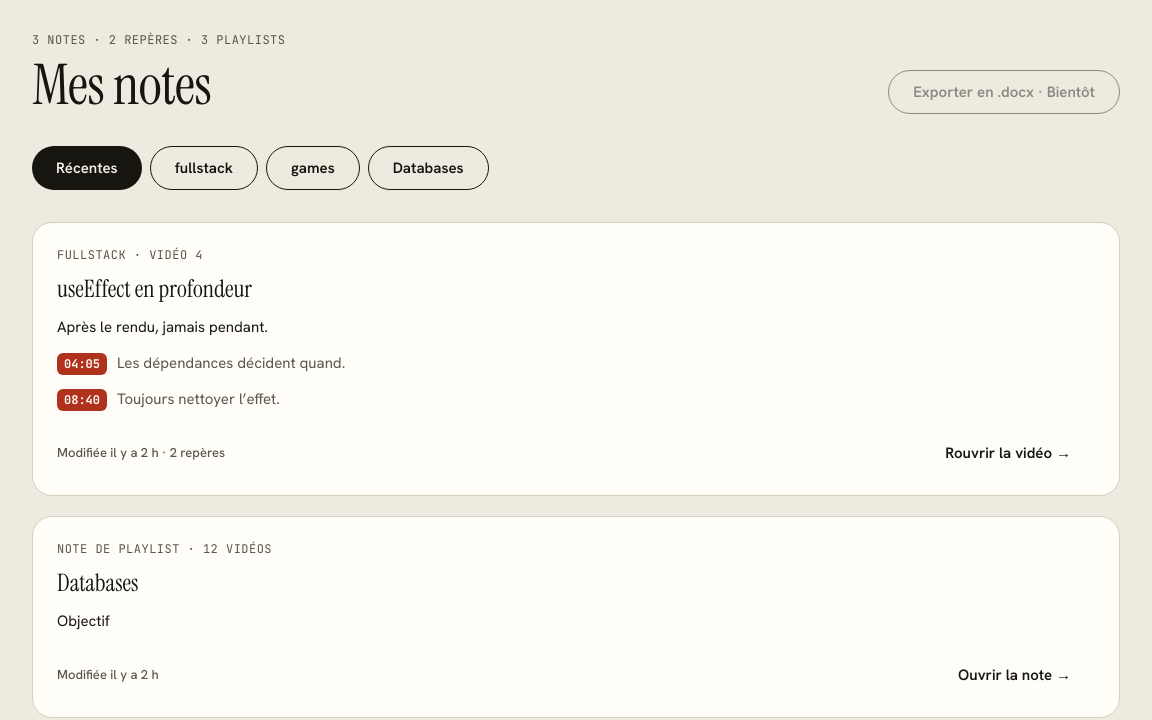
Test: NotesPage (YC-78) › filters by playlist; the card then says the place of the video in THAT playlist
Click the button "games": (313, 168) [266,146,360,190]
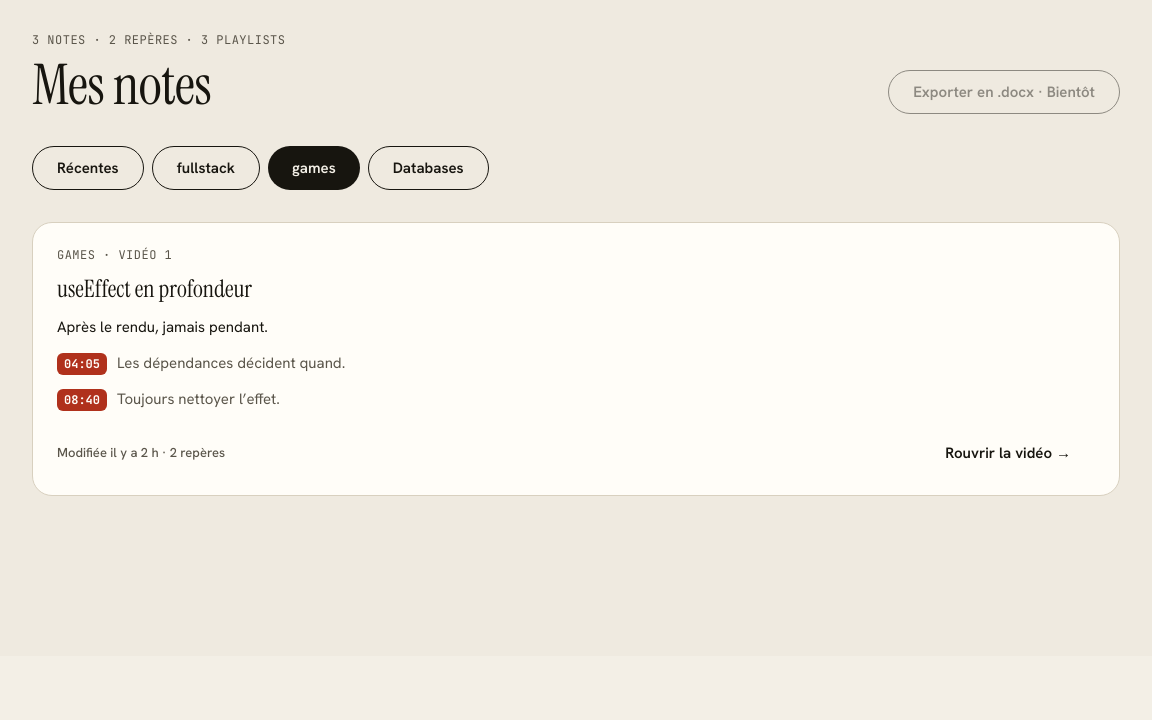
Now the text "games · Vidéo 1" is shown, box [57,247,172,263]
